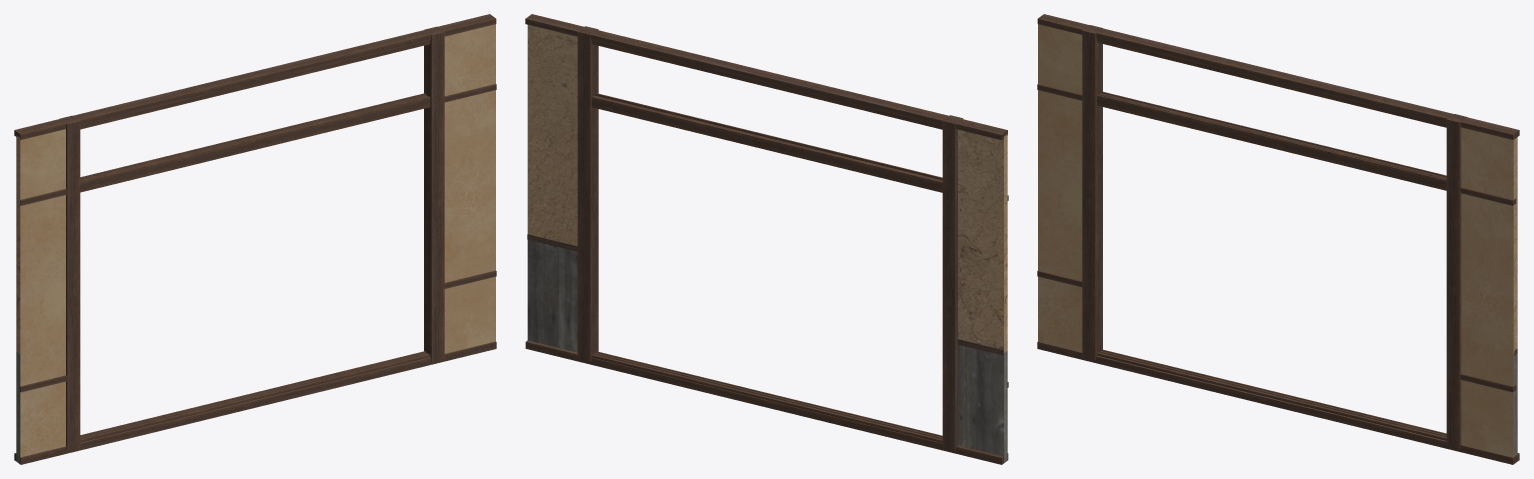
File: jov_outwall02_2t_to_d2.fbx
The picture shows the model from 3 angles, left to right: view 1: azimuth 30°, elevation 25°; view 2: azimuth 150°, elevation 25°; view 3: azimuth 330°, elevation 25°; orthographic projection.
Parts seen in each view (by area): view 1: jov_outwall02_2t_to_d2; view 2: jov_outwall02_2t_to_d2; view 3: jov_outwall02_2t_to_d2.
Boxes of the visible parts, x1,y1,x2,y2 form: jov_outwall02_2t_to_d2: (14, 14, 496, 464); jov_outwall02_2t_to_d2: (525, 14, 1008, 464); jov_outwall02_2t_to_d2: (1037, 14, 1519, 464).
Bounding box in the file's own units: 440 × 292 × 12.44.
